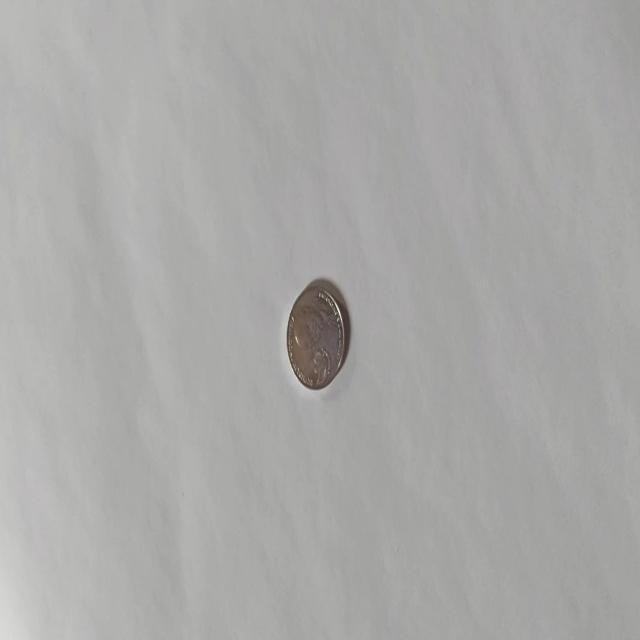lima ratus rupiah: (286, 279, 346, 391)
